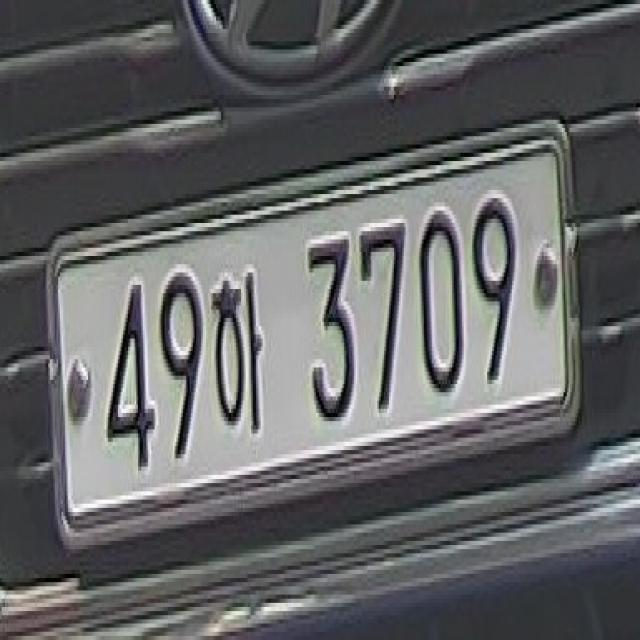0: (420, 198, 464, 412)
3: (304, 220, 356, 438)
4: (104, 282, 156, 470)
7: (358, 214, 408, 426)
9: (470, 171, 518, 392), (161, 268, 203, 460)
ha: (210, 232, 270, 460)
license_plate: (41, 109, 591, 560)
